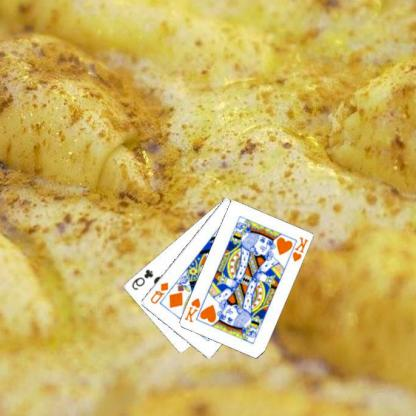6C: (130, 266, 156, 291)
KH: (183, 295, 203, 324), (291, 234, 311, 263)
QD: (149, 280, 171, 305)
